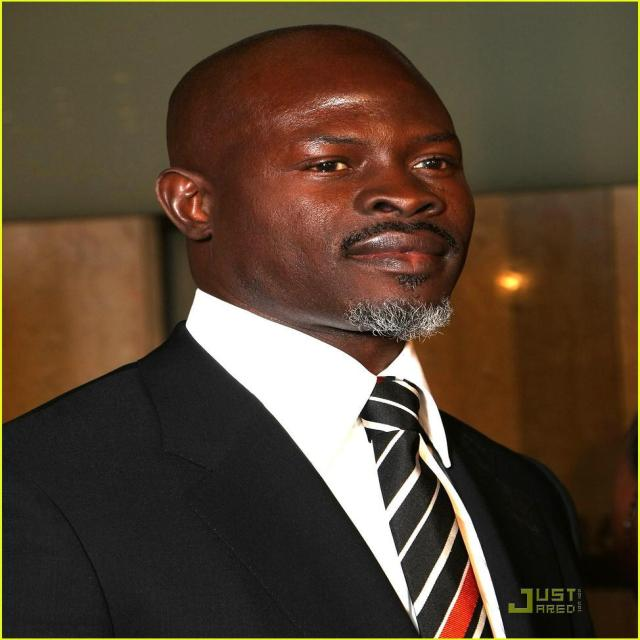no-earmuff: (154, 167, 213, 241)
